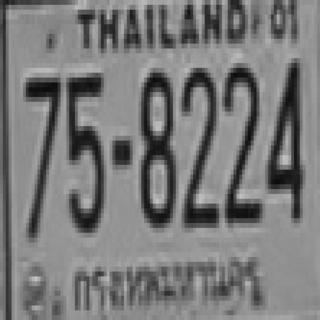N02: (223, 58, 258, 218), (182, 66, 216, 226)
N04: (265, 58, 303, 218)
N05: (65, 70, 102, 226)
N07: (23, 70, 60, 235), (23, 73, 60, 208), (23, 73, 60, 179)
N08: (138, 68, 173, 223)
P04: (68, 254, 266, 309)
